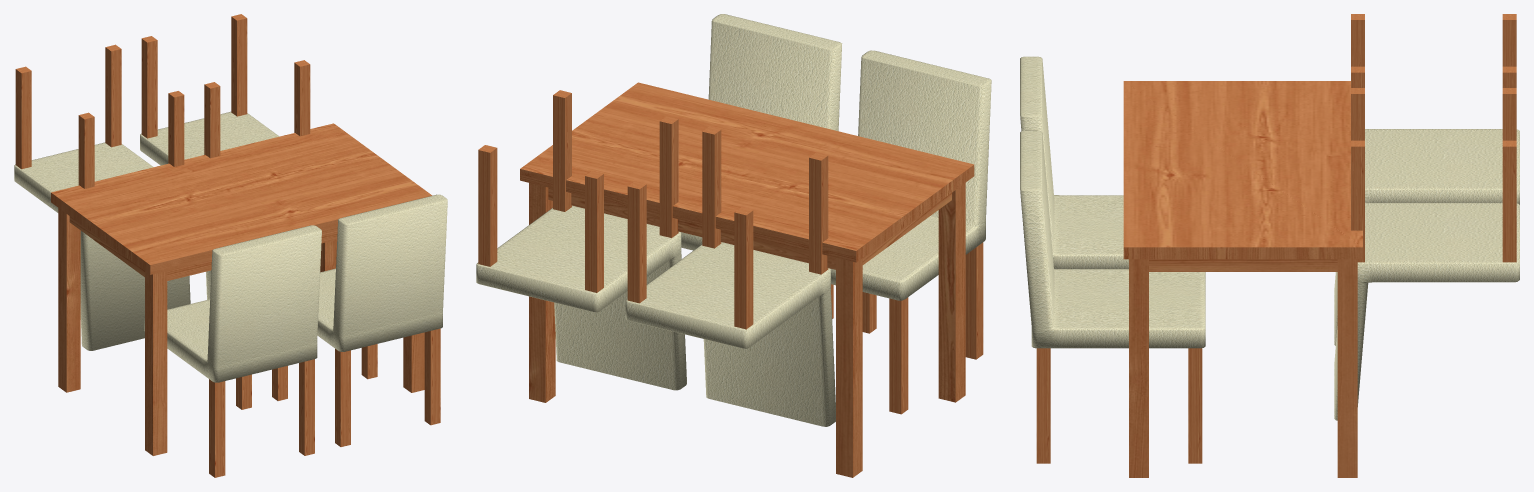
3 renders of one model, left to right at view 1: azimuth 30°, elevation 25°; view 2: azimuth 150°, elevation 25°; view 3: azimuth 270°, elevation 25°, orthographic. The views are drawn at different scales.
Visible parts, largest first — view 1: Table_1, ChairSeat1_3, ChairSeat2_5, ChairSeat4_9, ChairLegs3_6, ChairLegs4_8, ChairLegs2_4, ChairLegs1_2, ChairSeat3_7; view 2: Table_1, ChairSeat4_9, ChairSeat3_7, ChairSeat1_3, ChairSeat2_5, ChairLegs4_8, ChairLegs3_6, ChairLegs1_2; view 3: Table_1, ChairSeat2_5, ChairSeat3_7, ChairSeat4_9, ChairSeat1_3, ChairLegs3_6, ChairLegs2_4, ChairLegs4_8.
Part boxes in pixels (x1,y1,x2,y2): Table_1: (51,123,431,455); ChairSeat1_3: (144,225,321,382); ChairSeat2_5: (317,194,447,351); ChairSeat4_9: (14,142,190,350); ChairLegs3_6: (141,14,310,158); ChairLegs4_8: (15,44,184,188); ChairLegs2_4: (272,328,440,446); ChairLegs1_2: (209,359,314,477); ChairSeat3_7: (140,111,279,299); Table_1: (520,82,974,477); ChairSeat4_9: (625,242,835,426); ChairSeat3_7: (476,205,686,390); ChairSeat1_3: (830,50,991,300); ChairSeat2_5: (680,14,842,250); ChairLegs4_8: (627,126,828,329); ChairLegs3_6: (478,90,678,292); ChairLegs1_2: (862,242,983,414); Table_1: (1123,81,1362,477); ChairSeat2_5: (1020,130,1205,348); ChairSeat3_7: (1334,203,1519,420); ChairSeat4_9: (1334,129,1519,345); ChairSeat1_3: (1020,56,1128,268); ChairLegs3_6: (1351,88,1516,262); ChairLegs2_4: (1036,348,1202,463); ChairLegs4_8: (1351,14,1516,87).
Bounding box in the file's own units: 1.2 × 1.07 × 1.52.
Materials: 2 (2 with a texture image).
